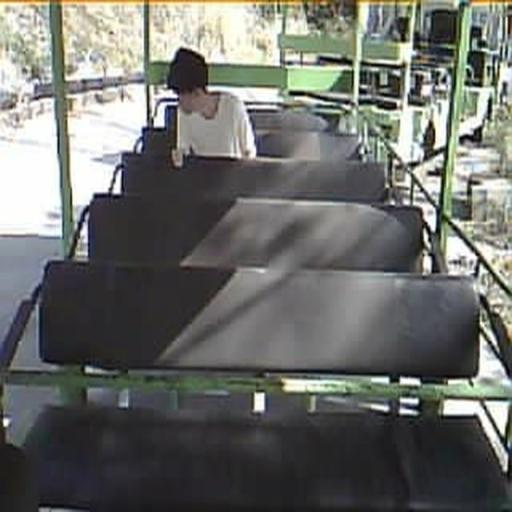persona: (165, 46, 257, 161)
